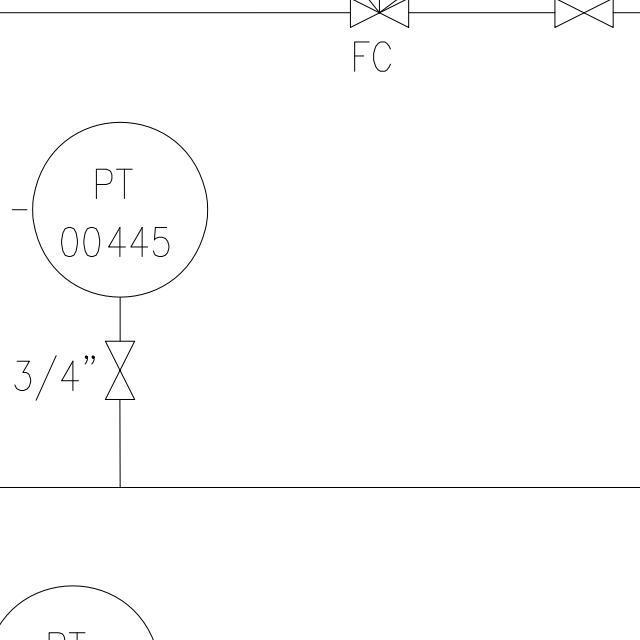GV: (100, 337, 141, 406), (547, 0, 620, 32)
